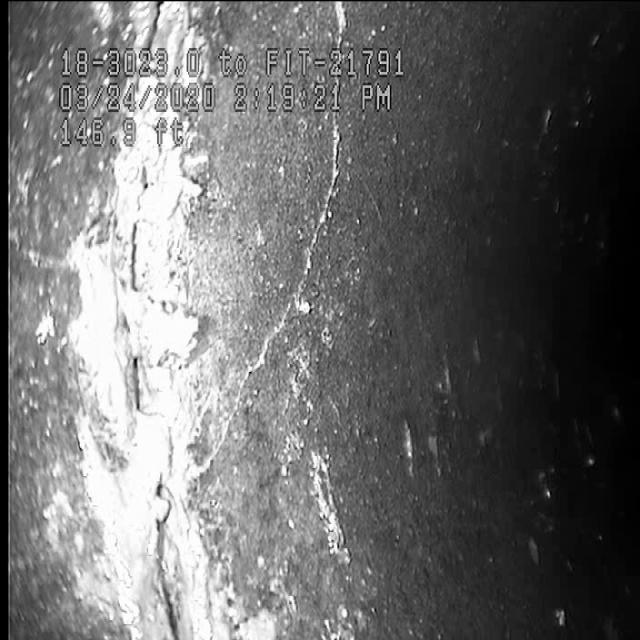Crack: (188, 157, 346, 518)
